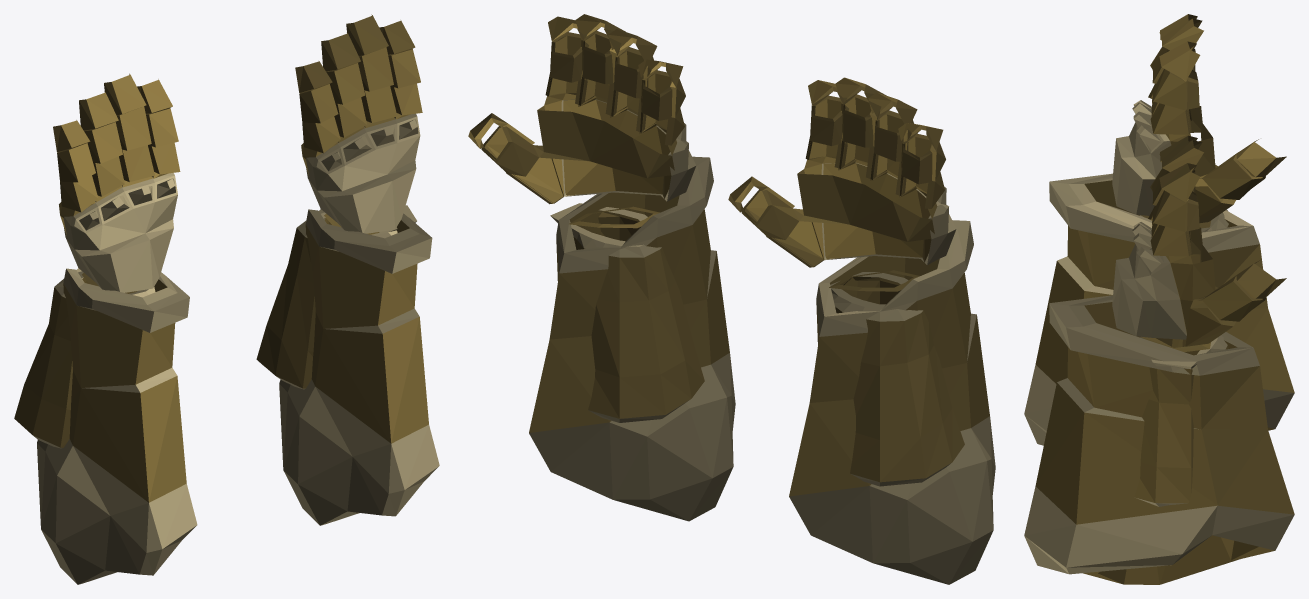
File: gold_hands.glb
3 renders of one model, left to right at view 1: azimuth 30°, elevation 25°; view 2: azimuth 150°, elevation 25°; view 3: azimuth 270°, elevation 25°, orthographic. The views are drawn at different scales.
Parts seen in each view (by area): view 1: gold_hands; view 2: gold_hands; view 3: gold_hands.
Part boxes in pixels (left/top/right/bottom): gold_hands: left=14, top=14, right=439, bottom=584; gold_hands: left=468, top=14, right=995, bottom=584; gold_hands: left=1024, top=14, right=1294, bottom=584.
Size of the model in its own units: 0.951 by 1 by 0.514.
